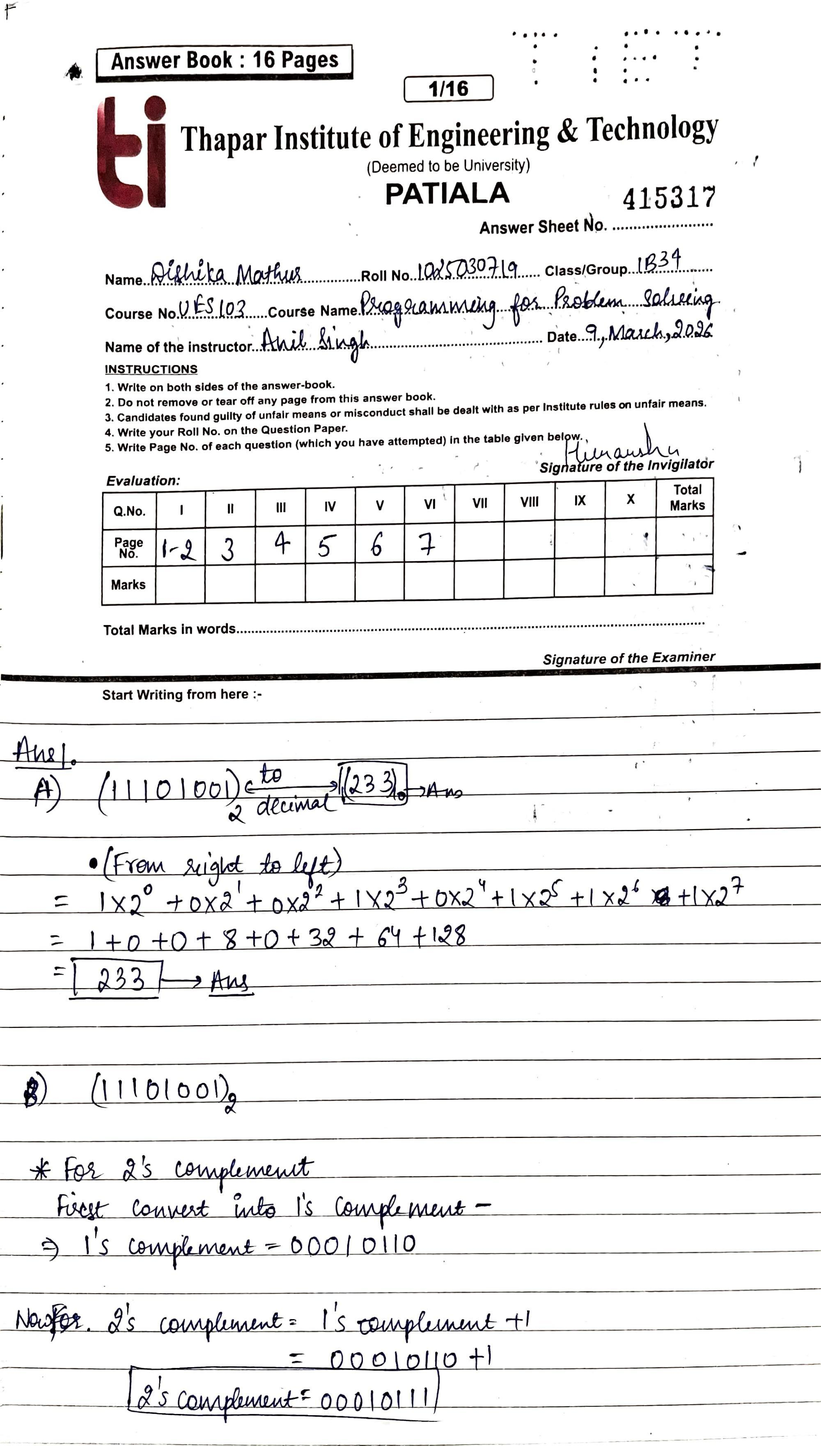cuttings: (49, 1303, 84, 1342), (651, 885, 671, 906)
